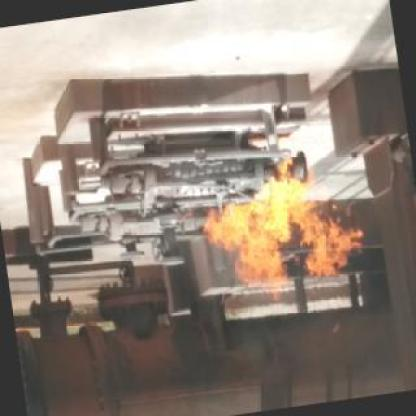Fire: (207, 146, 367, 306)
